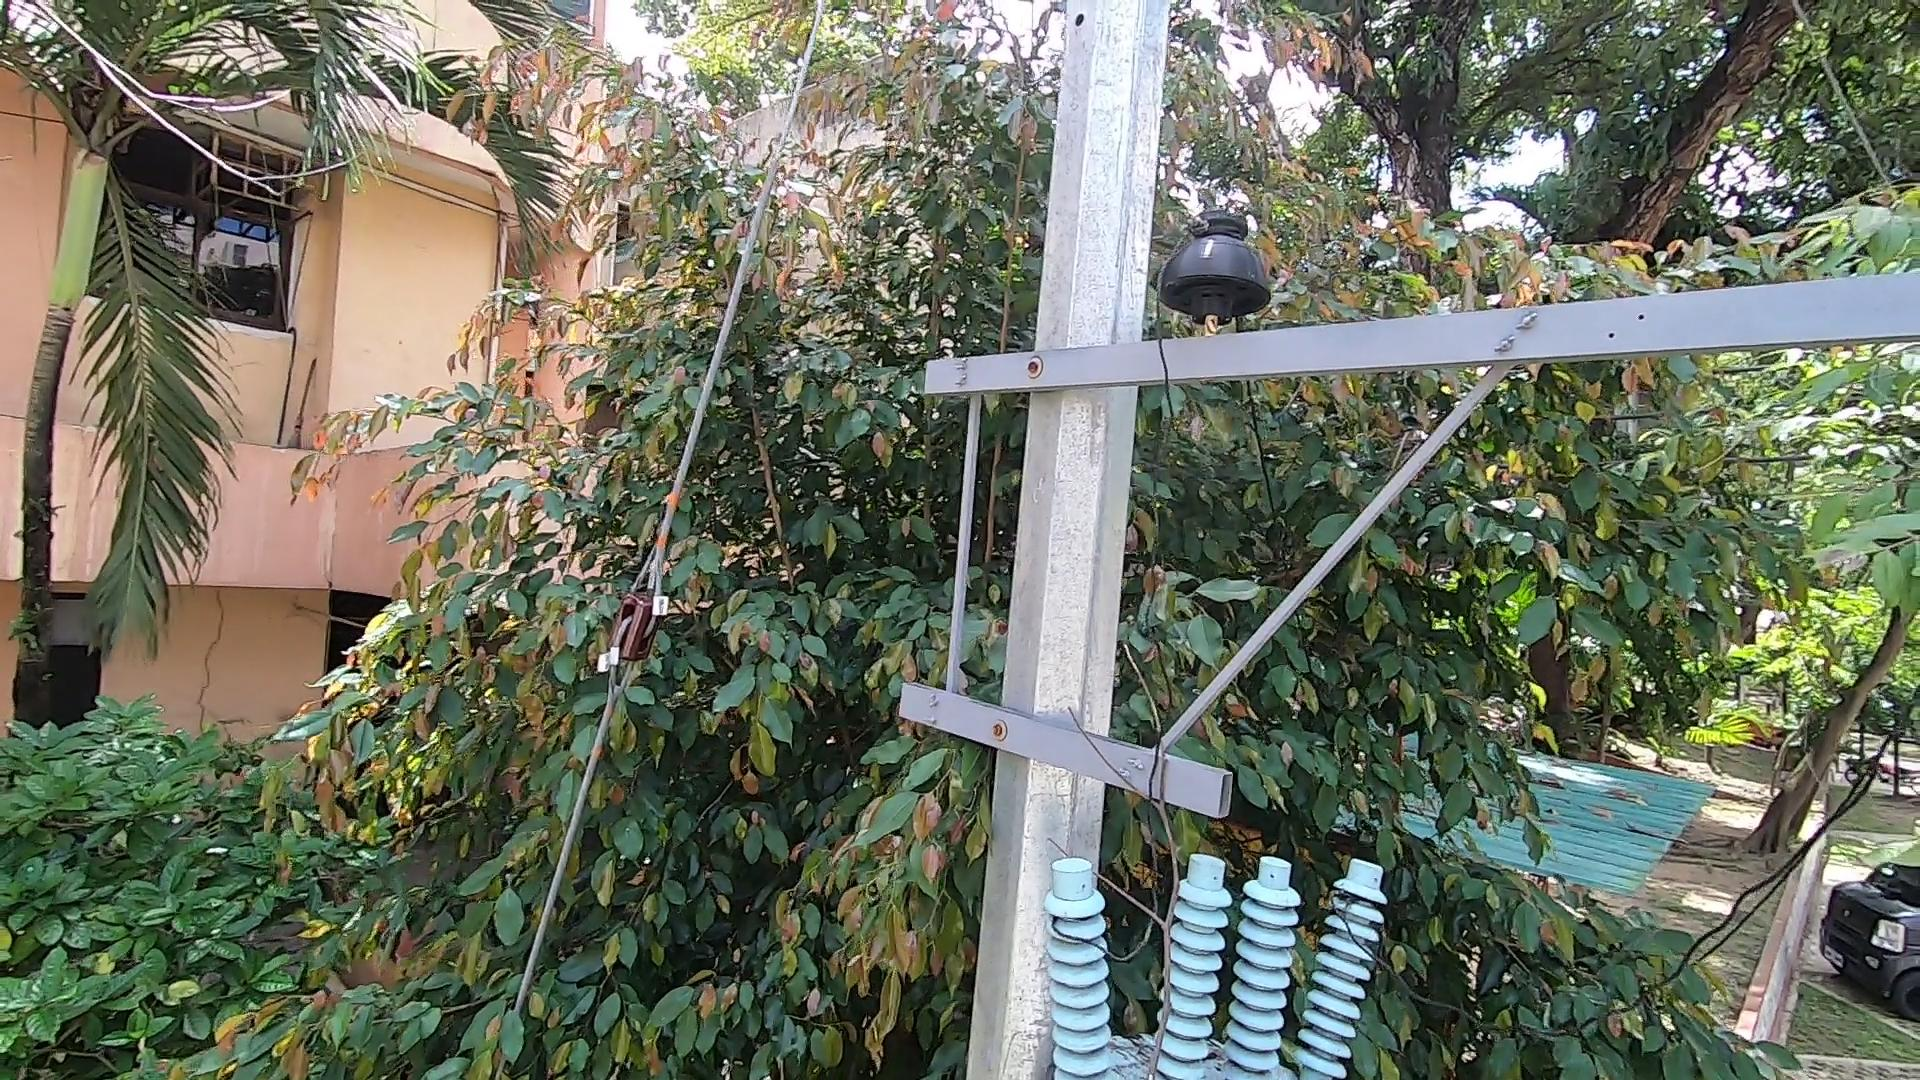tree branch: (1063, 618, 1218, 1080)
